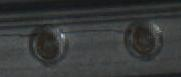joints: (123, 18, 164, 59), (26, 24, 69, 63)
